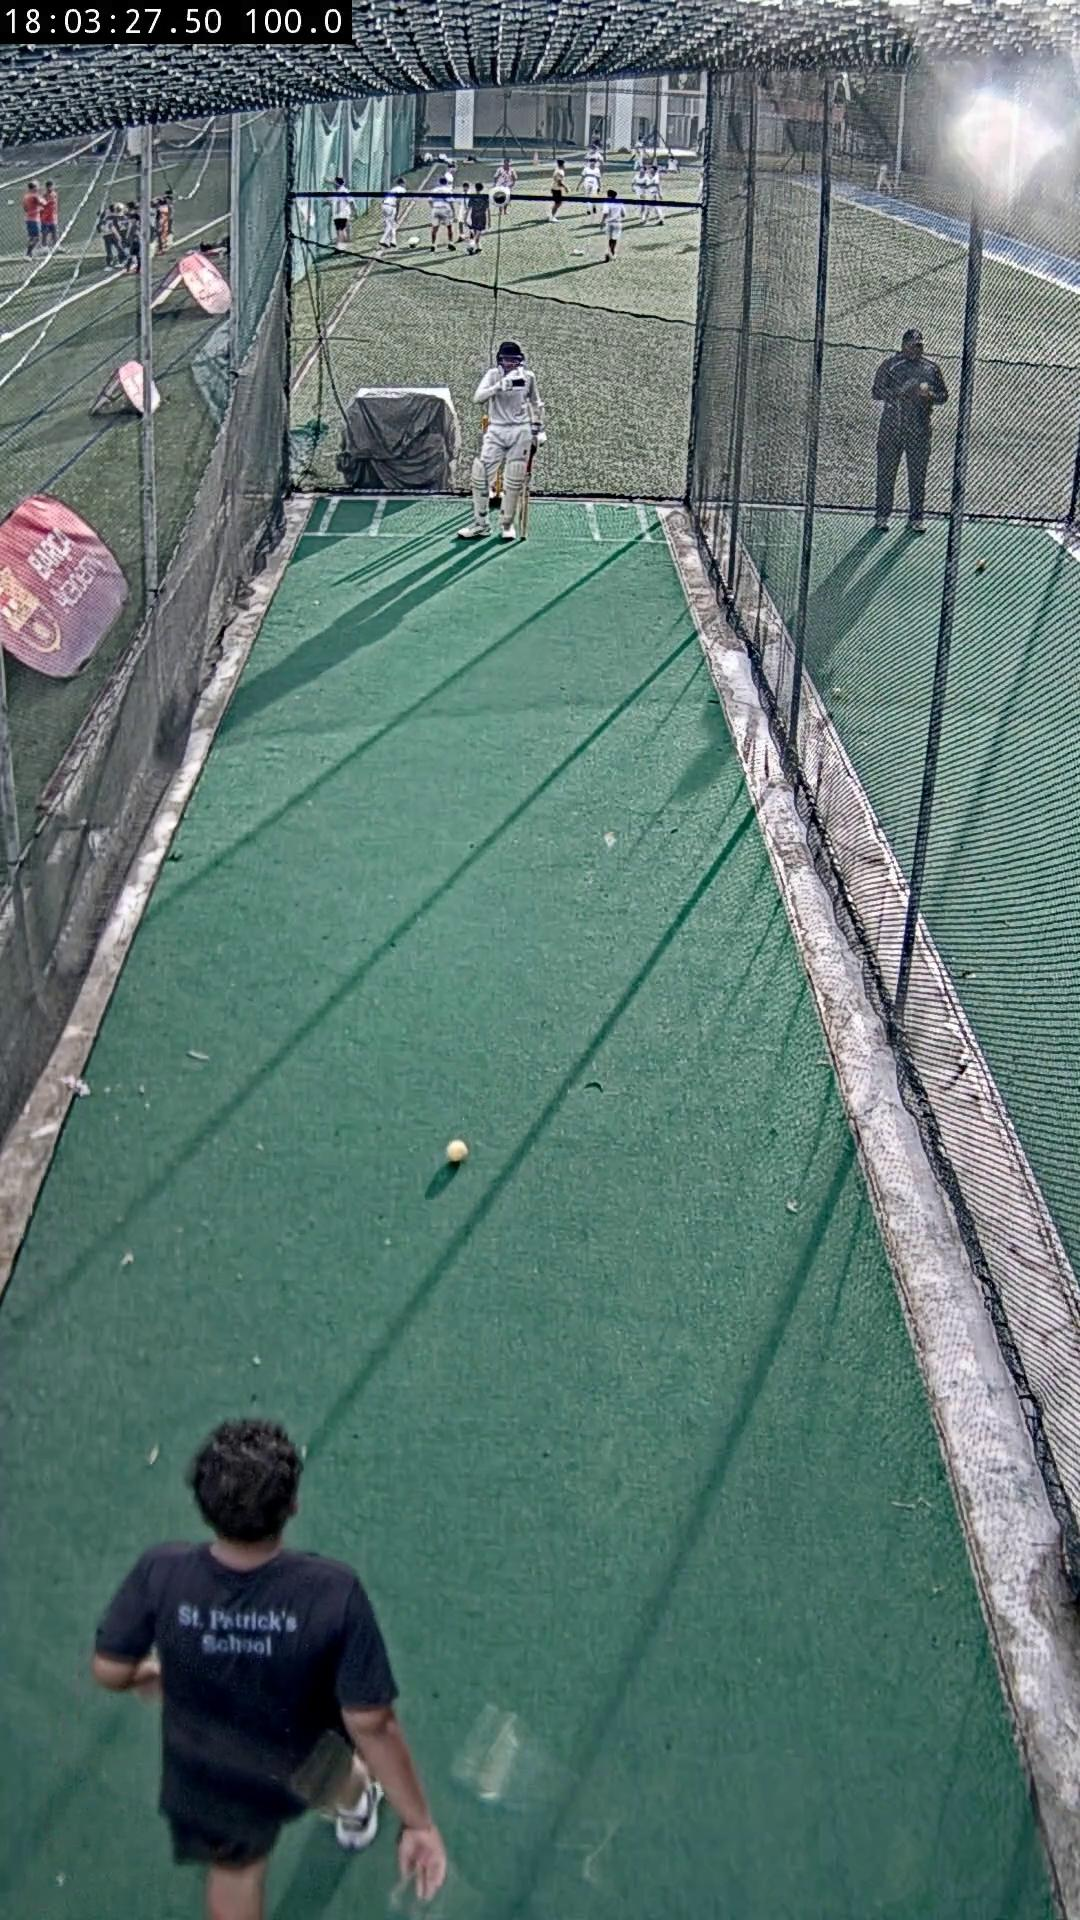ball: (446, 1139, 468, 1164)
bat: (517, 472, 529, 541)
gloves: (506, 368, 525, 390)
helmet: (498, 342, 521, 356)
pads: (472, 458, 495, 524), (502, 458, 525, 524)
